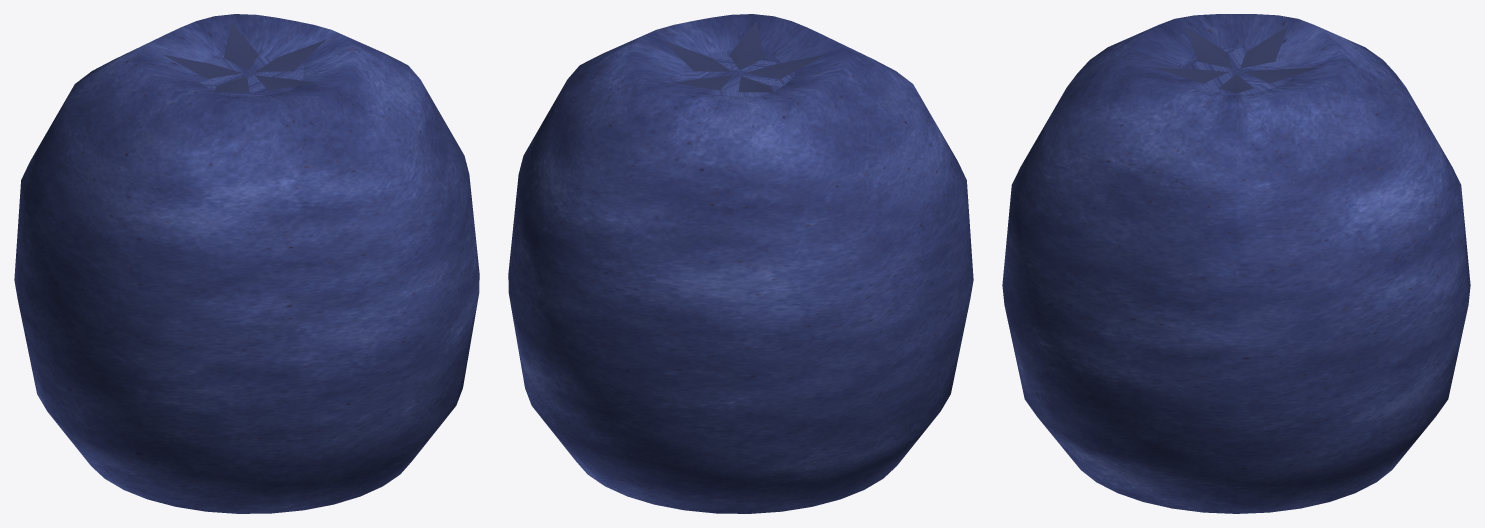
Rendered from blueberry-DZv4pUC8.glb.
The picture shows the model from 3 angles, left to right: view 1: azimuth 30°, elevation 25°; view 2: azimuth 150°, elevation 25°; view 3: azimuth 270°, elevation 25°; orthographic projection.
Parts seen in each view (by area): view 1: FLC_blueberry; view 2: FLC_blueberry; view 3: FLC_blueberry.
Part boxes in pixels (x1,y1,x2,y2): FLC_blueberry: (14,14,479,513); FLC_blueberry: (508,14,973,513); FLC_blueberry: (1002,14,1470,513).
Size of the model in its own units: 0.32 by 0.3115 by 0.32.
2 materials, 1 textured.
